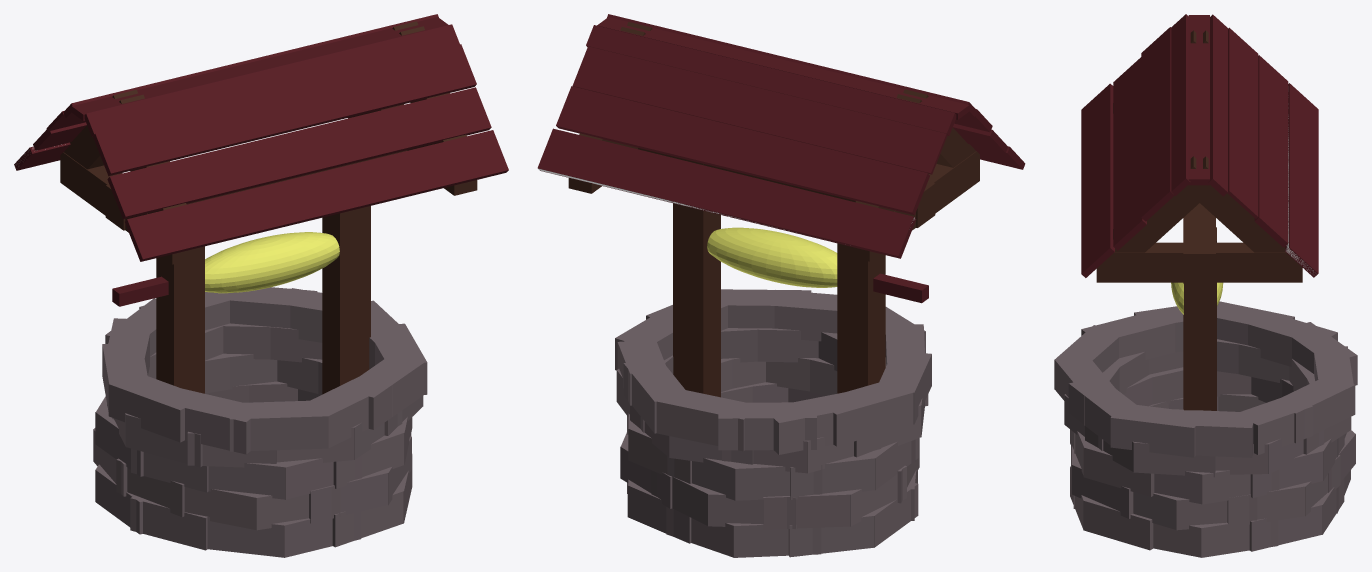
File: Well.fbx
The picture shows the model from 3 angles, left to right: view 1: azimuth 30°, elevation 25°; view 2: azimuth 150°, elevation 25°; view 3: azimuth 270°, elevation 25°; orthographic projection. The views are drawn at different scales.
Visible parts, largest first — view 1: Cube.083, Cube.084, Cube.086, Cube.085, Cube.066, Cube.065, Sphere, Cube.087, Cube.056, Cube.057, Cube.064, Cube.054 (+43 smaller); view 2: Cube.074, Cube.080, Cube.081, Cube.066, Cube.078, Cube.065, Sphere, Cube.082, Cube.058, Cube.087, Cube.060, Cube.061 (+41 smaller); view 3: Cube.068, Cube.083, Cube.084, Cube.074, Cube.080, Cube.081, Cube.086, Cube.066, Cube.087, Cube.053, Cube.085, Cube.052 (+50 smaller).
Boxes of the visible parts, bbox=[...] form: Cube.083: bbox=[125, 130, 508, 261]; Cube.084: bbox=[93, 44, 476, 176]; Cube.086: bbox=[107, 87, 491, 219]; Cube.085: bbox=[84, 24, 459, 136]; Cube.066: bbox=[322, 206, 370, 394]; Cube.065: bbox=[156, 246, 204, 393]; Sphere: bbox=[205, 232, 339, 293]; Cube.087: bbox=[71, 17, 448, 120]; Cube.056: bbox=[229, 400, 328, 451]; Cube.057: bbox=[161, 388, 264, 454]; Cube.064: bbox=[108, 376, 184, 442]; Cube.054: bbox=[341, 359, 423, 429]; Cube.074: bbox=[537, 128, 916, 258]; Cube.080: bbox=[556, 86, 929, 215]; Cube.081: bbox=[572, 46, 947, 174]; Cube.066: bbox=[673, 156, 720, 397]; Cube.078: bbox=[618, 33, 951, 132]; Cube.065: bbox=[837, 196, 885, 393]; Sphere: bbox=[707, 227, 837, 287]; Cube.082: bbox=[586, 25, 956, 135]; Cube.058: bbox=[815, 378, 913, 446]; Cube.087: bbox=[597, 17, 969, 119]; Cube.060: bbox=[718, 402, 816, 450]; Cube.061: bbox=[655, 387, 744, 451]; Cube.068: bbox=[1096, 242, 1302, 282]; Cube.083: bbox=[1081, 83, 1114, 277]; Cube.084: bbox=[1141, 27, 1174, 221]; Cube.074: bbox=[1285, 83, 1318, 277]; Cube.080: bbox=[1254, 55, 1288, 247]; Cube.081: bbox=[1227, 27, 1258, 218]; Cube.086: bbox=[1113, 57, 1146, 250]; Cube.066: bbox=[1184, 227, 1216, 410]; Cube.087: bbox=[1188, 15, 1209, 185]; Cube.053: bbox=[1110, 403, 1195, 457]; Cube.085: bbox=[1171, 14, 1190, 195]; Cube.052: bbox=[1166, 409, 1255, 457].
Size of the model in its own units: 477 by 537 by 369.
